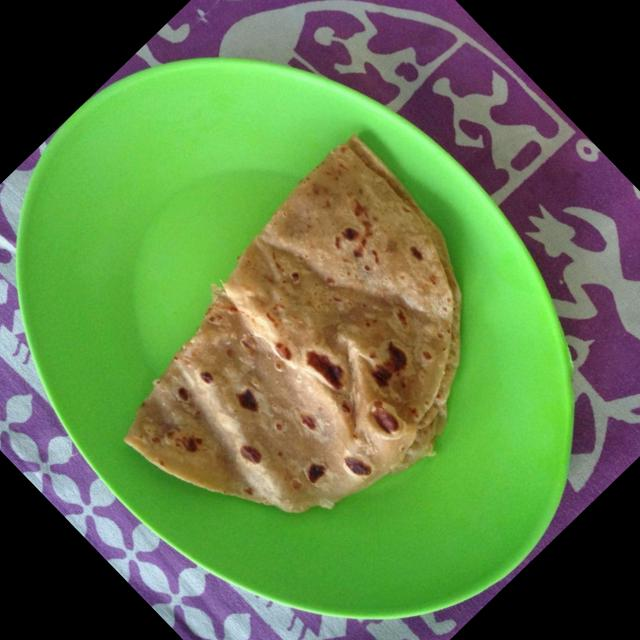roti: (118, 128, 456, 519)
